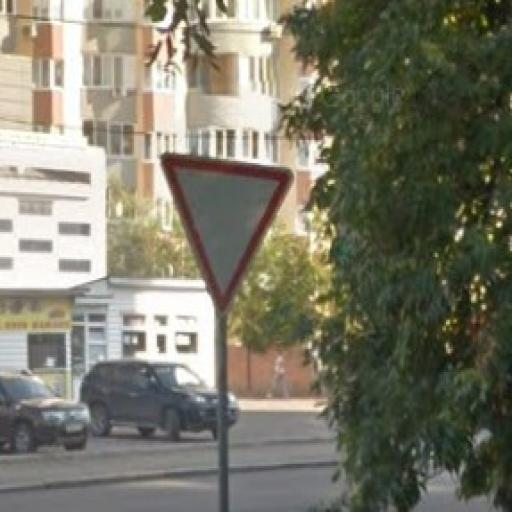traffic_sign: (156, 152, 297, 317)
